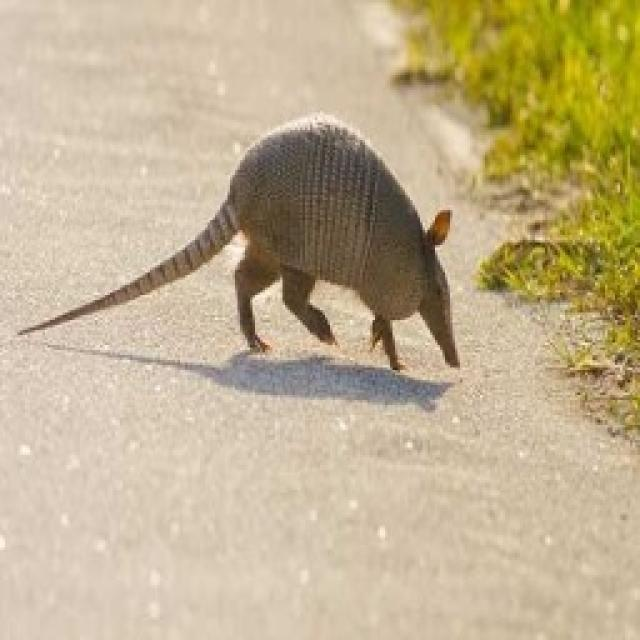not_pig: (15, 110, 460, 372)
